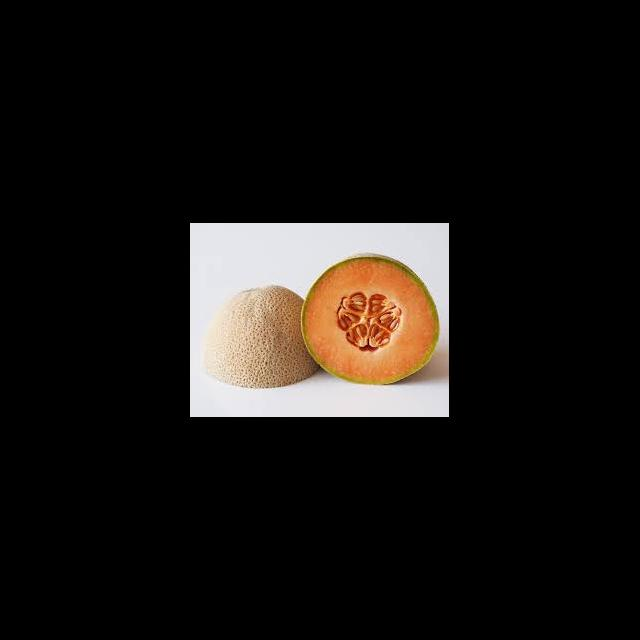Hami Melon: (301, 252, 441, 386), (203, 284, 322, 388)
